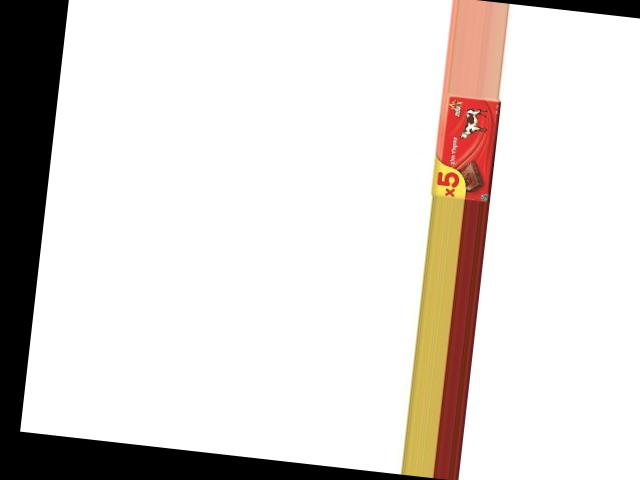chocolate: (428, 91, 501, 202)
